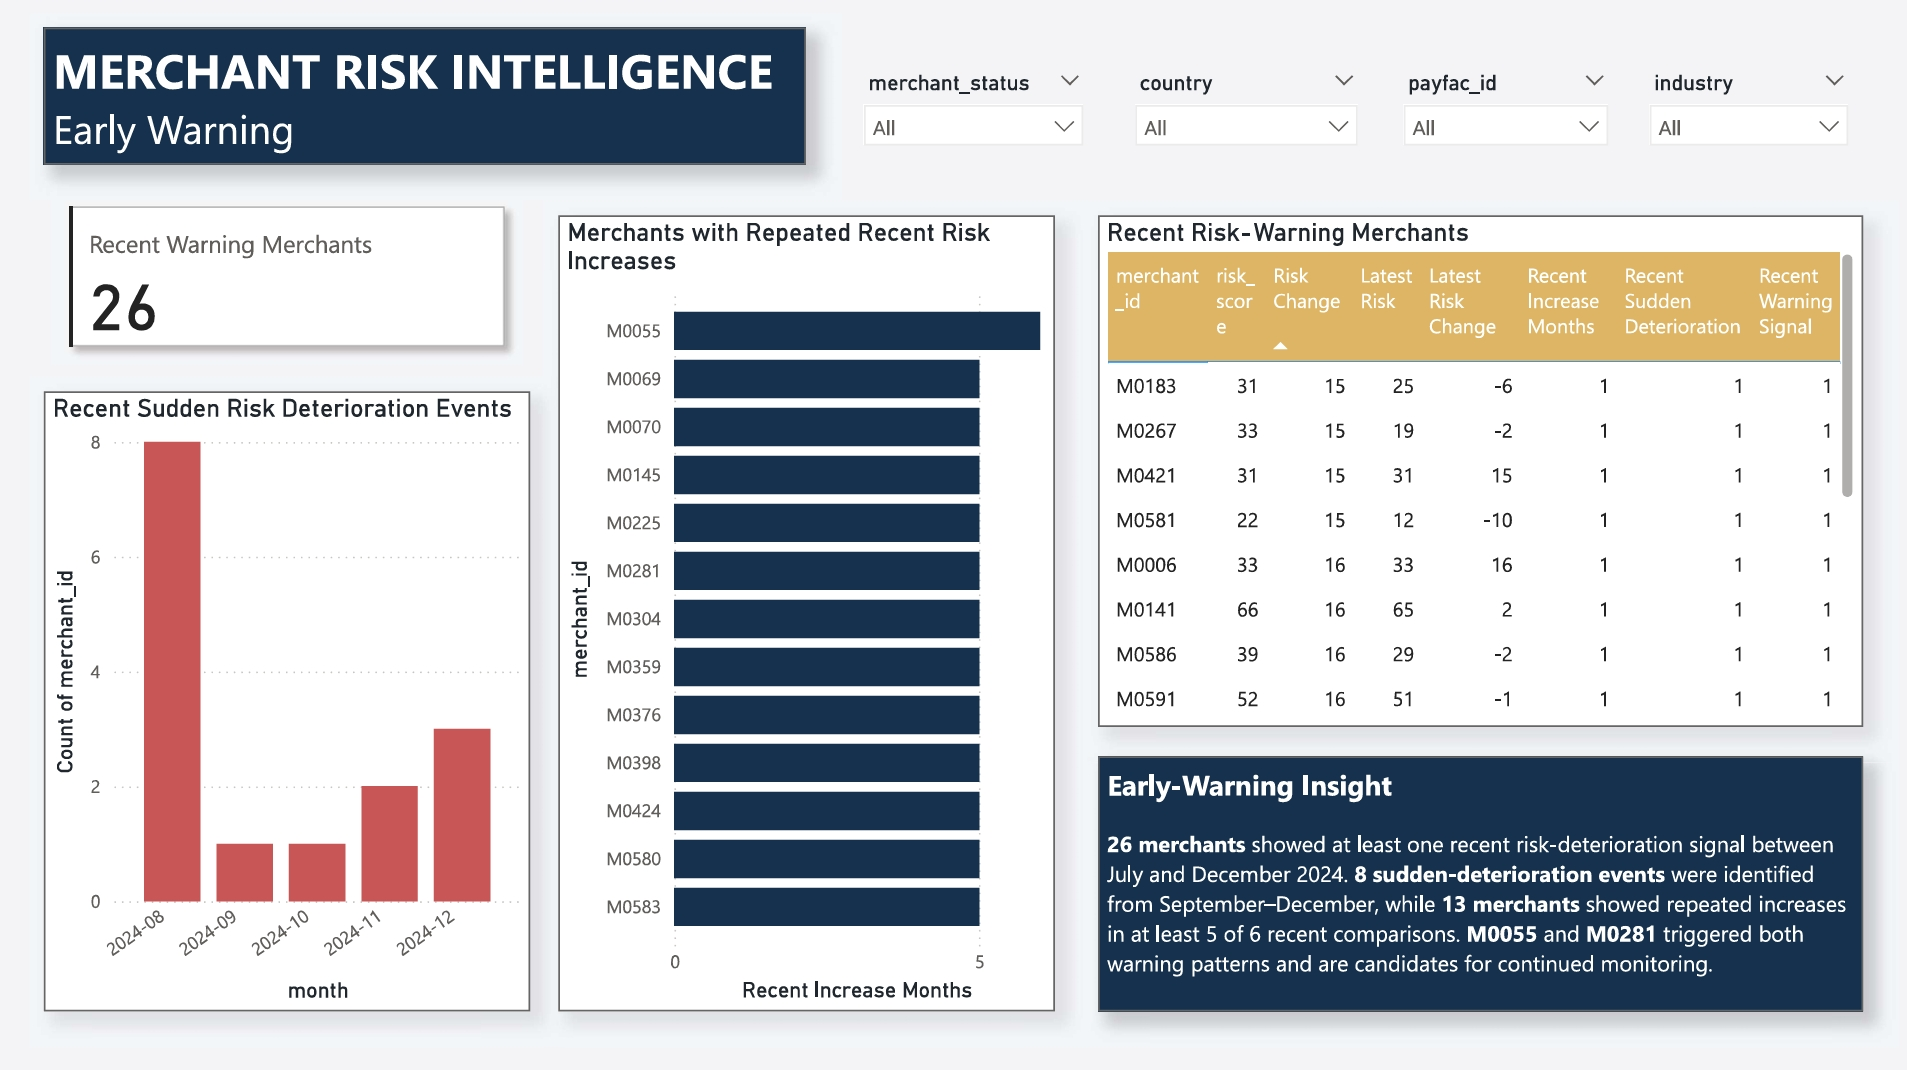

The page's visual inventory and layout, read from the dashboard file:
{"tool":"powerbi","page":{"name":"Early Warning","canvas":[1280,720],"ordinal":3},"visuals":[{"type":"textbox","box":[29.4,20.9,510.4,92],"z":0},{"type":"slicer","fields":{"Values":["merchant_risk_intelligence merchants.merchant_status"]},"box":[569.3,45.4,166.9,67.5],"z":1000},{"type":"slicer","fields":{"Values":["merchant_risk_intelligence merchants.country"]},"box":[750.9,45.4,169.3,67.5],"z":2000},{"type":"slicer","fields":{"Values":["merchant_risk_intelligence merchants.payfac_id"]},"box":[931.3,45.4,157.1,67.5],"z":3000},{"type":"slicer","fields":{"Values":["merchant_risk_intelligence merchants.industry"]},"box":[1095.7,45.4,153.4,67.5],"z":4000},{"type":"cardVisual","fields":{"Data":["merchant_risk_intelligence merchant_risk.Recent Risk Signal Merchants"]},"box":[29.4,123.9,325.2,127.6],"z":5000},{"type":"clusteredColumnChart","title":"Recent Sudden Risk Deterioration Events","fields":{"Category":["merchant_risk_intelligence merchant_risk.month"],"Y":["CountNonNull(merchant_risk_intelligence merchant_risk.merchant_id)"]},"box":[29.4,265,325.2,416],"z":7000},{"type":"clusteredBarChart","title":"Merchants with Repeated Recent Risk Increases","fields":{"Category":["Merchant Signal Summary.merchant_id"],"Y":["Merchant Signal Summary.Recent Increase Months"]},"box":[374.2,147.2,332.5,533.7],"z":8000},{"type":"tableEx","title":"Recent Risk-Warning Merchants","fields":{"Values":["Merchant Signal Summary.merchant_id","merchant_risk_intelligence merchant_risk.risk_score","merchant_risk_intelligence merchant_risk.Risk Change","Merchant Signal Summary.Latest Risk","Merchant Signal Summary.Latest Risk Change","Merchant Signal Summary.Recent Increase Months","Merchant Signal Summary.Recent Sudden Deterioration","Merchant Signal Summary.Recent Warning Signal"]},"box":[736.2,147.2,512.9,342.3],"z":9000},{"type":"textbox","box":[736.2,510.4,512.9,170.6],"z":10000}]}

Visuals, with their boxes in screenshot pixels (x1, y1, x2, y2), scaled from the page's 1280x720 canvas onto the 1907x1071 screenshot:
textbox: BBox(44, 31, 804, 168)
slicer - merchant_risk_intelligence merchants.merchant_status: BBox(848, 68, 1097, 168)
slicer - merchant_risk_intelligence merchants.country: BBox(1119, 68, 1371, 168)
slicer - merchant_risk_intelligence merchants.payfac_id: BBox(1387, 68, 1622, 168)
slicer - merchant_risk_intelligence merchants.industry: BBox(1632, 68, 1861, 168)
cardVisual - merchant_risk_intelligence merchant_risk.Recent Risk Signal Merchants: BBox(44, 184, 528, 374)
"Recent Sudden Risk Deterioration Events" clusteredColumnChart: BBox(44, 394, 528, 1013)
"Merchants with Repeated Recent Risk Increases" clusteredBarChart: BBox(557, 219, 1053, 1013)
"Recent Risk-Warning Merchants" tableEx: BBox(1097, 219, 1861, 728)
textbox: BBox(1097, 759, 1861, 1013)
